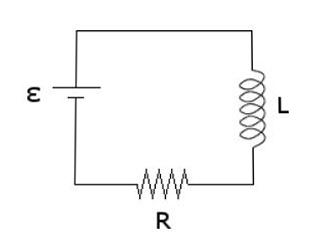resistor: (115, 159, 206, 208)
